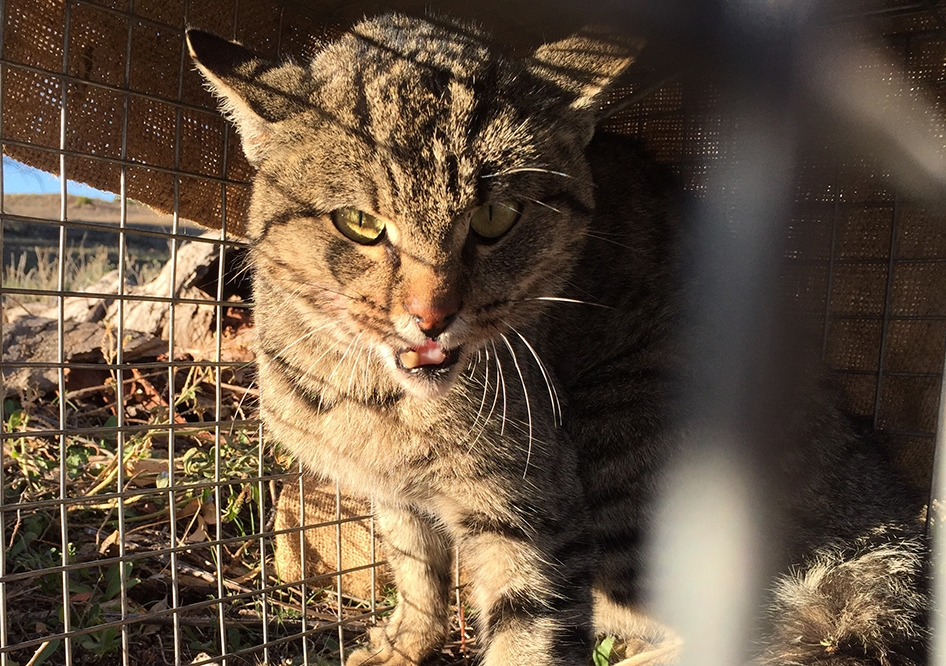Cat: (148, 17, 651, 666)
